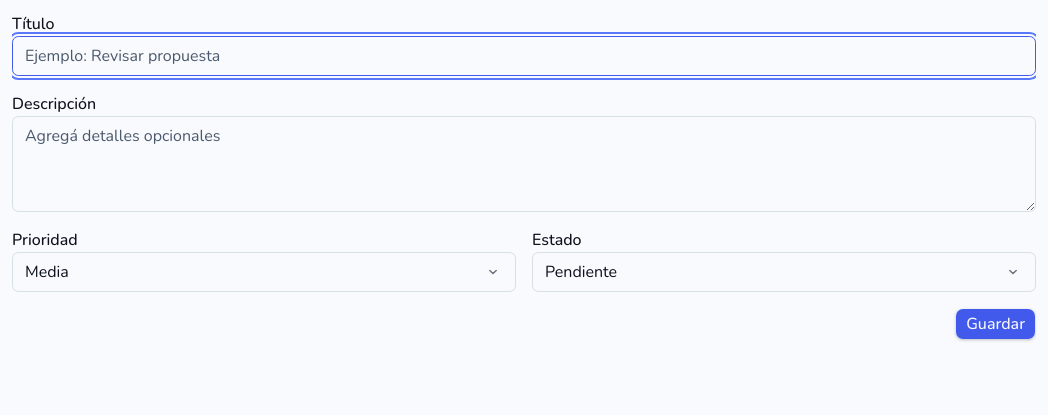
TaskForm › shows server action errors without refreshing the current route
Step 1. Type "Preparar tablero" into the field labelled "Título" → (524, 56), box [12,36,1036,76]
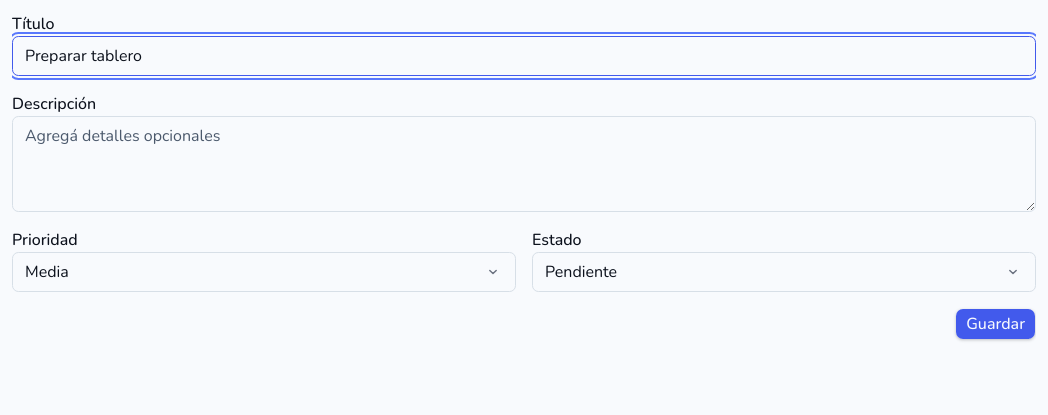
Step 2. Submit the form from the button "Guardar", box [955,308,1036,340]
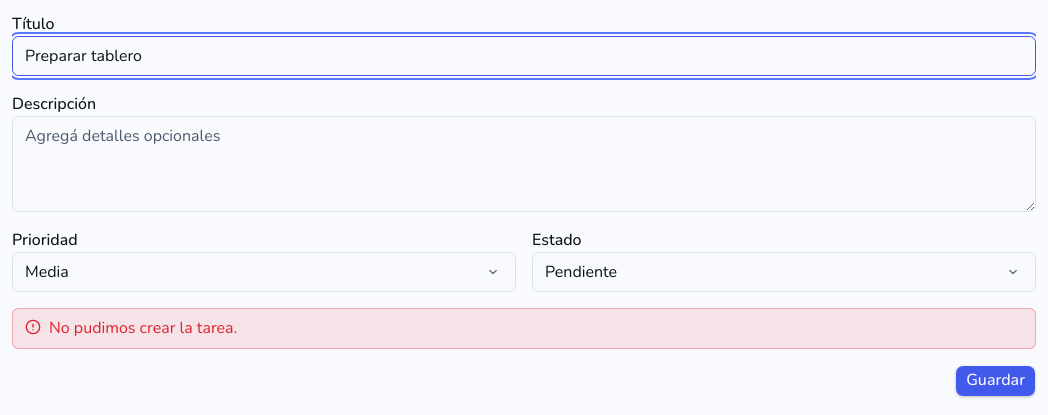
Expected: the message reads "No pudimos crear la tarea.", [49,317,237,339]
